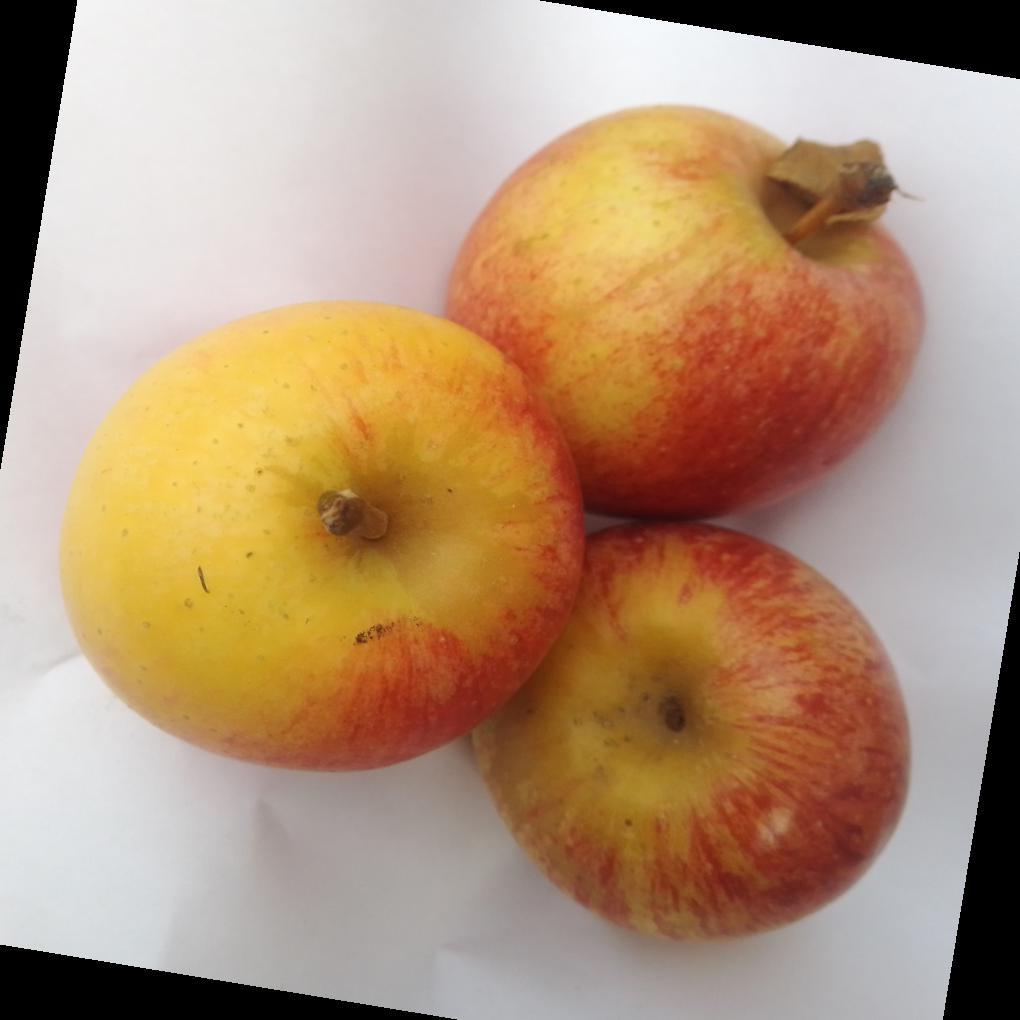FreshGuava: (56, 105, 926, 948)
